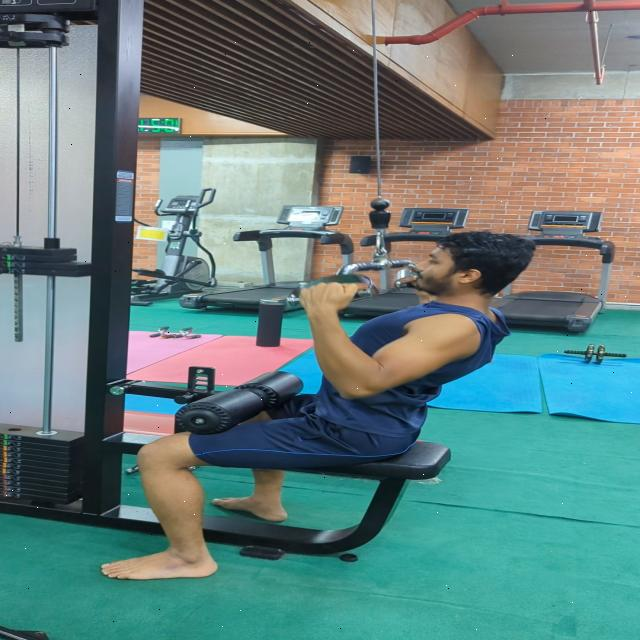Normal_LatPulldown: (59, 218, 566, 597)
